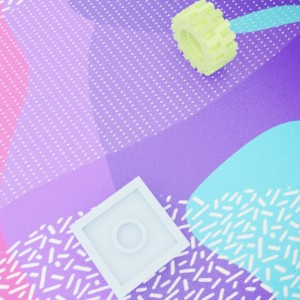lego: (69, 176, 190, 300), (171, 0, 237, 75)
